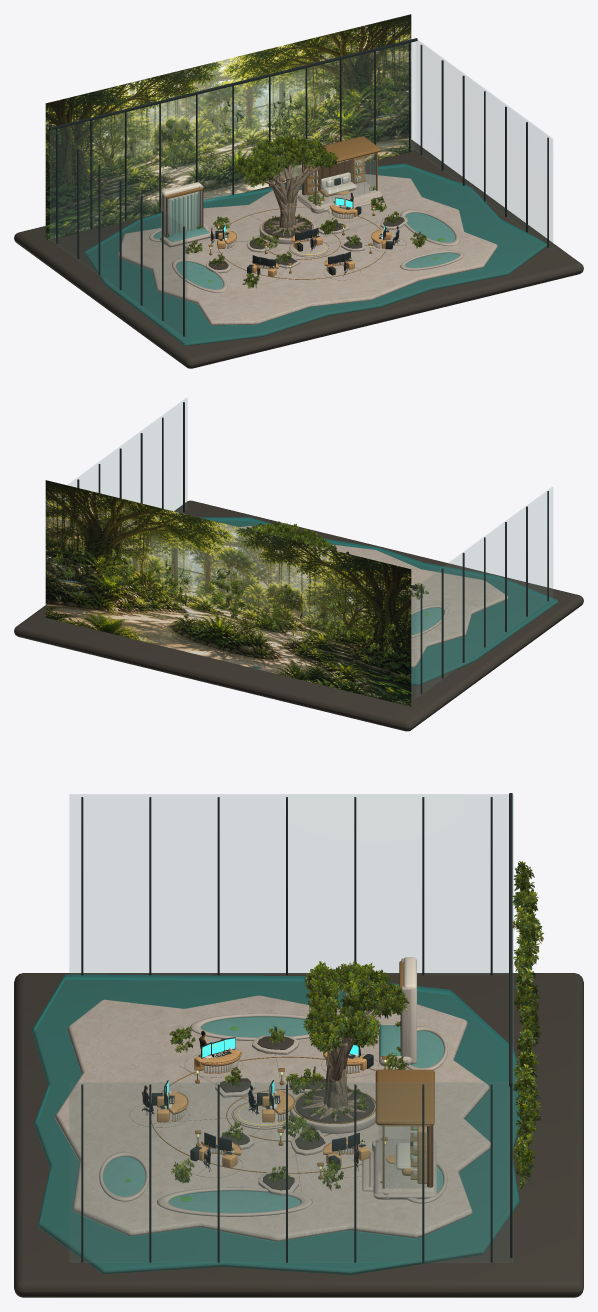
Rendered from garden-office-v5.glb.
3 views of the same model, one above another, from view 1: azimuth 30°, elevation 25°; view 2: azimuth 150°, elevation 25°; view 3: azimuth 270°, elevation 25° (orthographic). The views are drawn at different scales.
Parts seen in each view (by area): view 1: RuntimeBatch_Low_iron_architectural_glass, V5 Exterior Garden Plate, RuntimeBatch_Limestone_joint, RuntimeBatch_Limestone_warm, RuntimeBatch_Shallow_turquoise_water, RuntimeBatch_Ficus_cluster_atlas, RuntimeBatch_Graphite, RuntimeBatch_Ivory_fluted_stone, RuntimeBatch_Champagne_bronze, RuntimeBatch_Old_ficus_bark, RuntimeBatch_Quarter_sawn_oak, RuntimeBatch_Dark_oak; view 2: V5 Exterior Garden Plate, RuntimeBatch_Limestone_joint, RuntimeBatch_Low_iron_architectural_glass, RuntimeBatch_Shallow_turquoise_water, RuntimeBatch_Limestone_warm, RuntimeBatch_Ficus_cluster_atlas, RuntimeBatch_Graphite; view 3: RuntimeBatch_Low_iron_architectural_glass, RuntimeBatch_Limestone_joint, RuntimeBatch_Limestone_warm, RuntimeBatch_Shallow_turquoise_water, RuntimeBatch_Ficus_cluster_atlas, RuntimeBatch_Graphite, RuntimeBatch_Champagne_bronze, RuntimeBatch_Quarter_sawn_oak, RuntimeBatch_Ivory_fluted_stone, RuntimeBatch_Old_ficus_bark.
Boxes of the visible parts, x1,y1,x2,y2 form: RuntimeBatch_Low_iron_architectural_glass: [50, 40, 552, 338]; V5 Exterior Garden Plate: [45, 14, 411, 240]; RuntimeBatch_Limestone_joint: [14, 139, 583, 368]; RuntimeBatch_Limestone_warm: [117, 174, 497, 325]; RuntimeBatch_Shallow_turquoise_water: [84, 163, 547, 346]; RuntimeBatch_Ficus_cluster_atlas: [78, 70, 426, 288]; RuntimeBatch_Graphite: [49, 38, 548, 336]; RuntimeBatch_Ivory_fluted_stone: [161, 160, 383, 272]; RuntimeBatch_Champagne_bronze: [165, 136, 387, 279]; RuntimeBatch_Old_ficus_bark: [254, 154, 319, 235]; RuntimeBatch_Quarter_sawn_oak: [217, 152, 391, 276]; RuntimeBatch_Dark_oak: [225, 159, 381, 268]; V5 Exterior Garden Plate: [45, 480, 411, 706]; RuntimeBatch_Limestone_joint: [14, 500, 583, 731]; RuntimeBatch_Low_iron_architectural_glass: [68, 398, 552, 698]; RuntimeBatch_Shallow_turquoise_water: [199, 517, 557, 685]; RuntimeBatch_Limestone_warm: [239, 526, 508, 667]; RuntimeBatch_Ficus_cluster_atlas: [51, 521, 428, 663]; RuntimeBatch_Graphite: [77, 402, 548, 693]; RuntimeBatch_Low_iron_architectural_glass: [69, 794, 513, 1262]; RuntimeBatch_Limestone_joint: [14, 973, 583, 1297]; RuntimeBatch_Limestone_warm: [55, 958, 490, 1241]; RuntimeBatch_Shallow_turquoise_water: [32, 974, 521, 1275]; RuntimeBatch_Ficus_cluster_atlas: [163, 861, 543, 1190]; RuntimeBatch_Graphite: [81, 793, 512, 1262]; RuntimeBatch_Champagne_bronze: [151, 961, 434, 1188]; RuntimeBatch_Quarter_sawn_oak: [157, 1049, 430, 1183]; RuntimeBatch_Ivory_fluted_stone: [169, 957, 417, 1175]; RuntimeBatch_Old_ficus_bark: [302, 990, 396, 1121].
Bounding box in the file's own units: 37 × 13.18 × 28.4.
26 materials, 11 textured.
